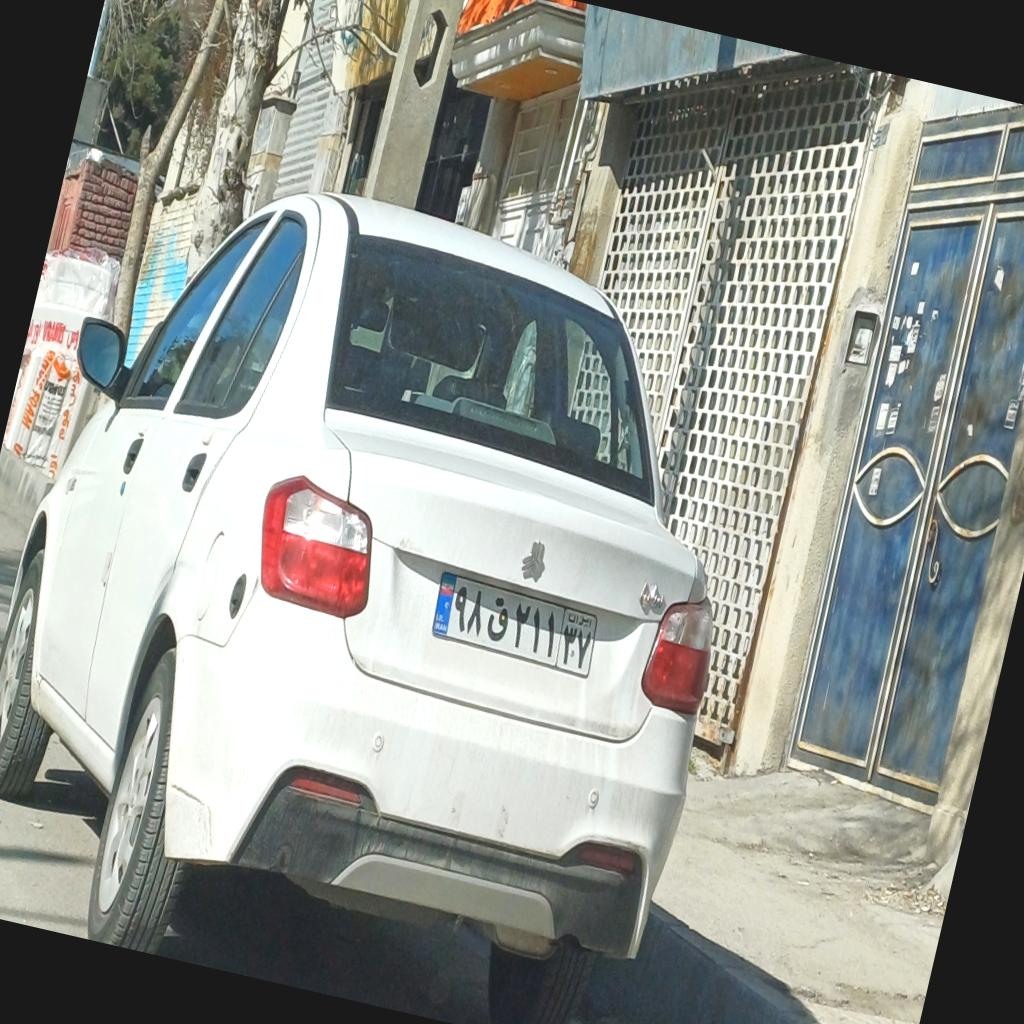Plates: (426, 568, 604, 678)
